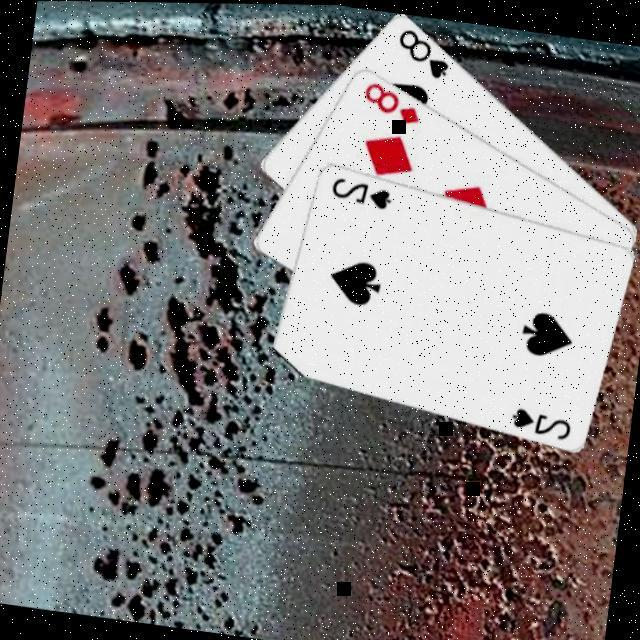2S: (508, 401, 577, 442), (328, 170, 397, 210)
8D: (358, 75, 428, 126)
8S: (392, 21, 458, 81)
